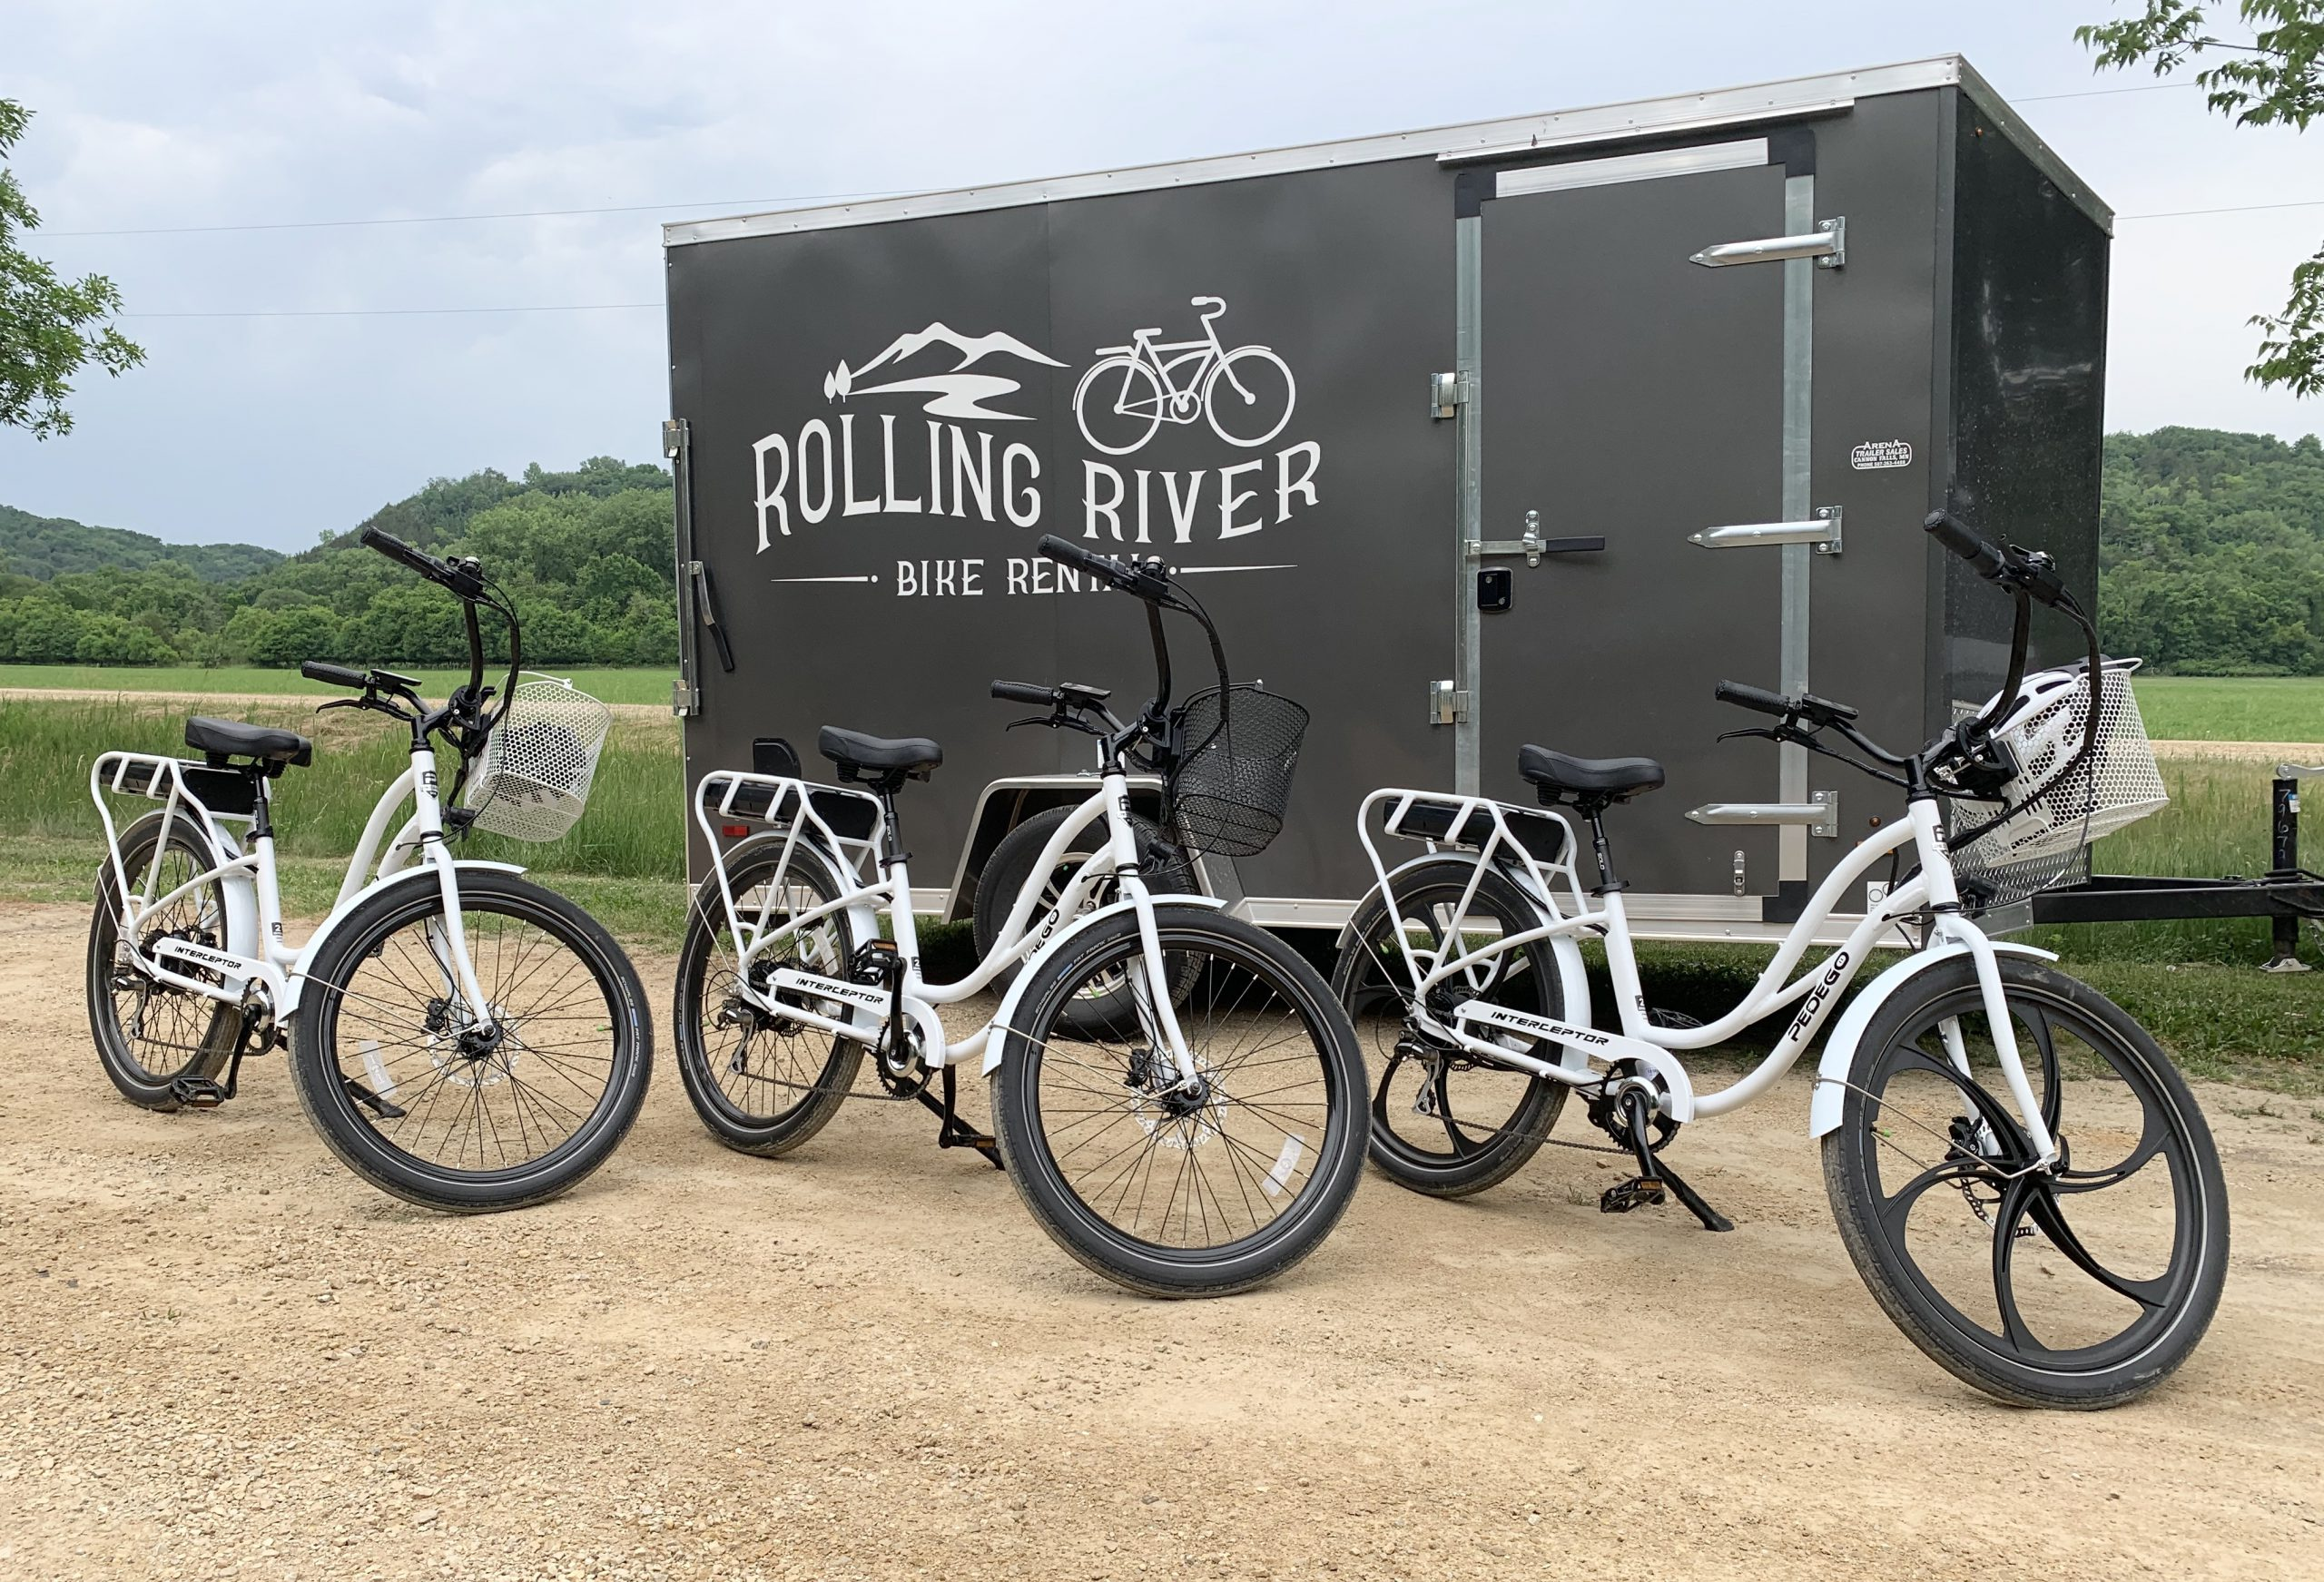bike: (37, 477, 671, 1277)
